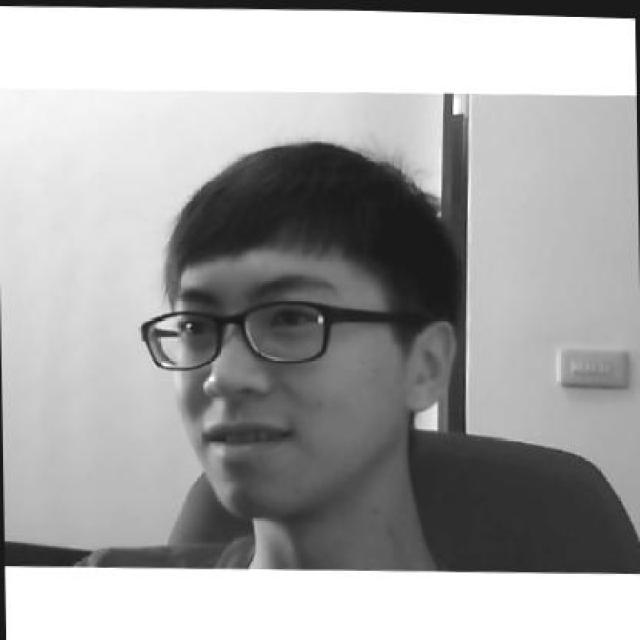attentif: (136, 128, 458, 521)
